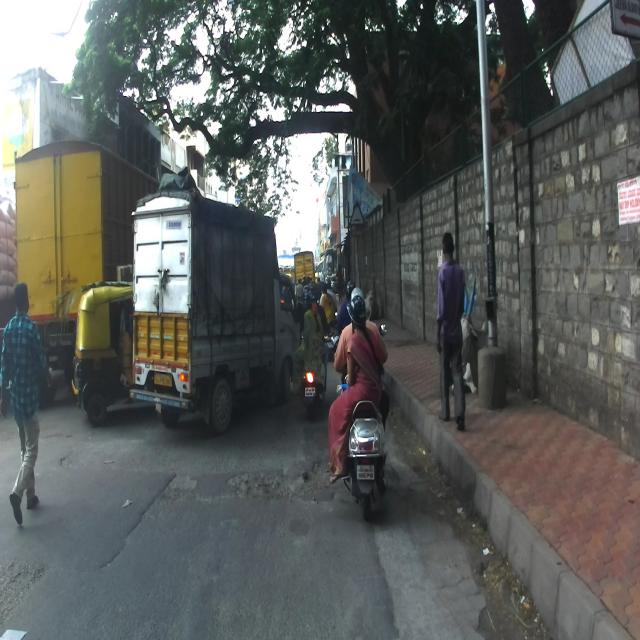autorickshaw: (71, 282, 148, 426)
scooter: (330, 323, 391, 520), (299, 317, 326, 419)
